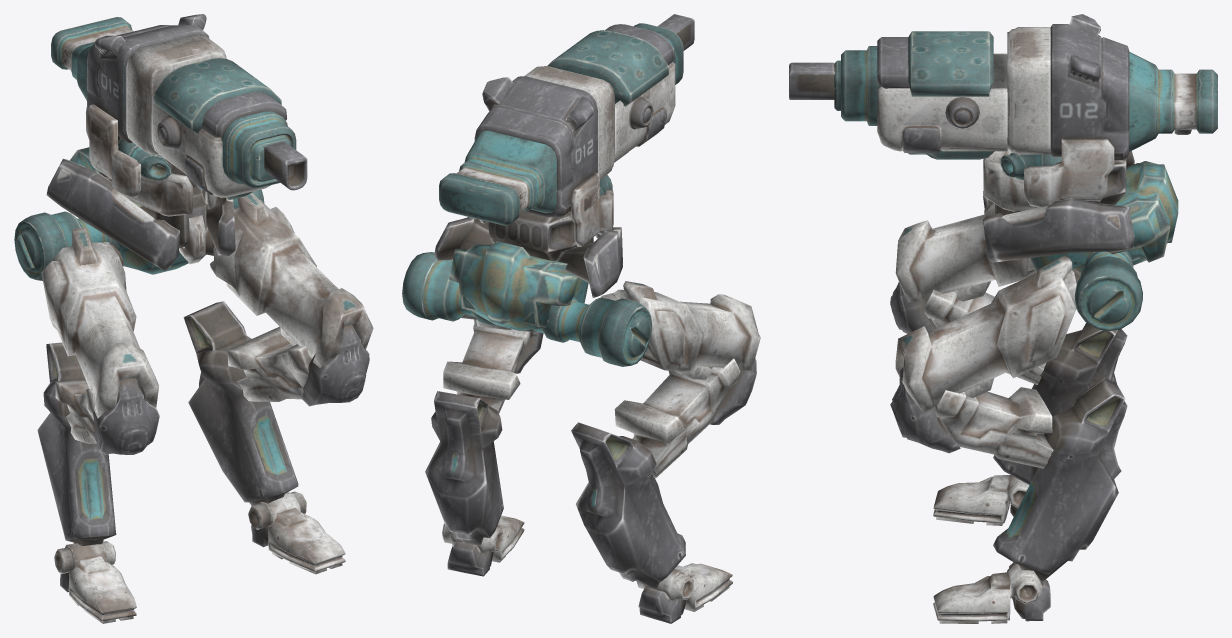
File: Destroyer_Pieces.fbx
3 renders of one model, left to right at view 1: azimuth 30°, elevation 25°; view 2: azimuth 150°, elevation 25°; view 3: azimuth 270°, elevation 25°, orthographic.
Parts seen in each view (by area): view 1: Destroyer_Legs.002, Destroyer_Legs.001, Destroyer_Legs.008, Destroyer_Legs.007, Destroyer_Legs.055, Destroyer_Legs.047, Destroyer_Legs.054, Destroyer_Legs.032, Destroyer_Legs.006, Destroyer_Legs.004, Destroyer_Legs.005, Destroyer_Legs.031 (+16 smaller); view 2: Destroyer_Legs.007, Destroyer_Legs.008, Destroyer_Legs.047, Destroyer_Legs.001, Destroyer_Legs.028, Destroyer_Legs.033, Destroyer_Legs.003, Destroyer_Legs.019, Destroyer_Legs.032, Destroyer_Legs.004, Destroyer_Legs.020, Destroyer_Legs.035 (+14 smaller); view 3: Destroyer_Legs.002, Destroyer_Legs.008, Destroyer_Legs.047, Destroyer_Legs.001, Destroyer_Legs.053, Destroyer_Legs.056, Destroyer_Legs.004, Destroyer_Legs.033, Destroyer_Legs.032, Destroyer_Legs.054, Destroyer_Legs.007, Destroyer_Legs.028 (+15 smaller).
Boxes of the visible parts, x1,y1,x2,y2 form: Destroyer_Legs.002: (210,192,373,367); Destroyer_Legs.001: (41,227,158,418); Destroyer_Legs.008: (183,301,298,505); Destroyer_Legs.007: (37,342,116,546); Destroyer_Legs.055: (46,158,179,271); Destroyer_Legs.047: (86,14,209,143); Destroyer_Legs.054: (126,34,226,155); Destroyer_Legs.032: (153,58,281,134); Destroyer_Legs.006: (248,491,345,574); Destroyer_Legs.004: (227,326,311,401); Destroyer_Legs.005: (54,541,136,623); Destroyer_Legs.031: (221,111,296,188); Destroyer_Legs.007: (571,422,685,589); Destroyer_Legs.008: (425,391,503,545); Destroyer_Legs.047: (474,76,597,217); Destroyer_Legs.001: (601,281,760,379); Destroyer_Legs.028: (449,241,588,331); Destroyer_Legs.033: (439,130,557,225); Destroyer_Legs.003: (614,358,740,477); Destroyer_Legs.019: (532,297,652,366); Destroyer_Legs.032: (547,30,668,106); Destroyer_Legs.004: (443,319,538,413); Destroyer_Legs.020: (402,252,495,325); Destroyer_Legs.035: (488,211,576,261); Destroyer_Legs.002: (895,255,1076,412); Destroyer_Legs.008: (993,378,1127,582); Destroyer_Legs.047: (1050,14,1129,160); Destroyer_Legs.001: (895,214,1036,302); Destroyer_Legs.053: (877,53,1007,152); Destroyer_Legs.056: (983,198,1134,262); Destroyer_Legs.004: (933,387,1053,468); Destroyer_Legs.033: (1129,52,1217,151); Destroyer_Legs.032: (908,31,993,96); Destroyer_Legs.054: (1007,27,1050,154); Destroyer_Legs.007: (993,323,1127,484); Destroyer_Legs.028: (1030,161,1178,271).
Size of the model in its own units: 719 by 1315 by 964.
